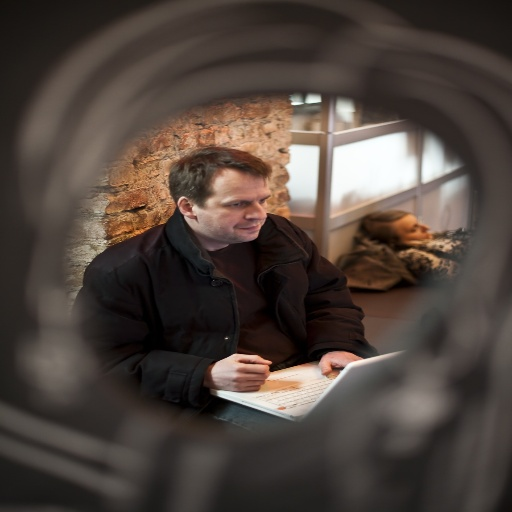hand: (209, 348, 274, 389), (315, 350, 363, 376)
